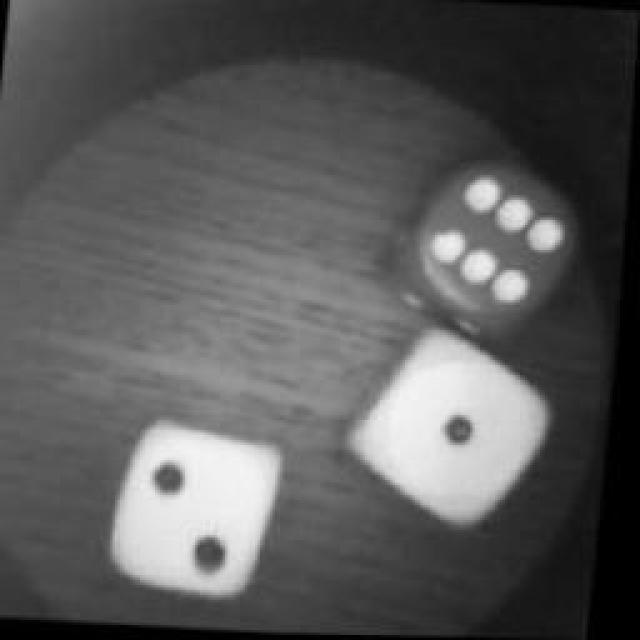dice_1: (344, 325, 558, 540)
dice_2: (101, 410, 296, 605)
dice_6: (385, 148, 600, 344)
